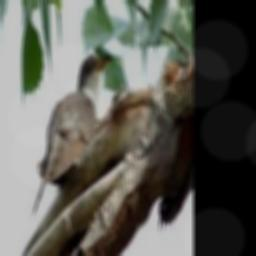Cuckoo: (32, 52, 111, 215)
